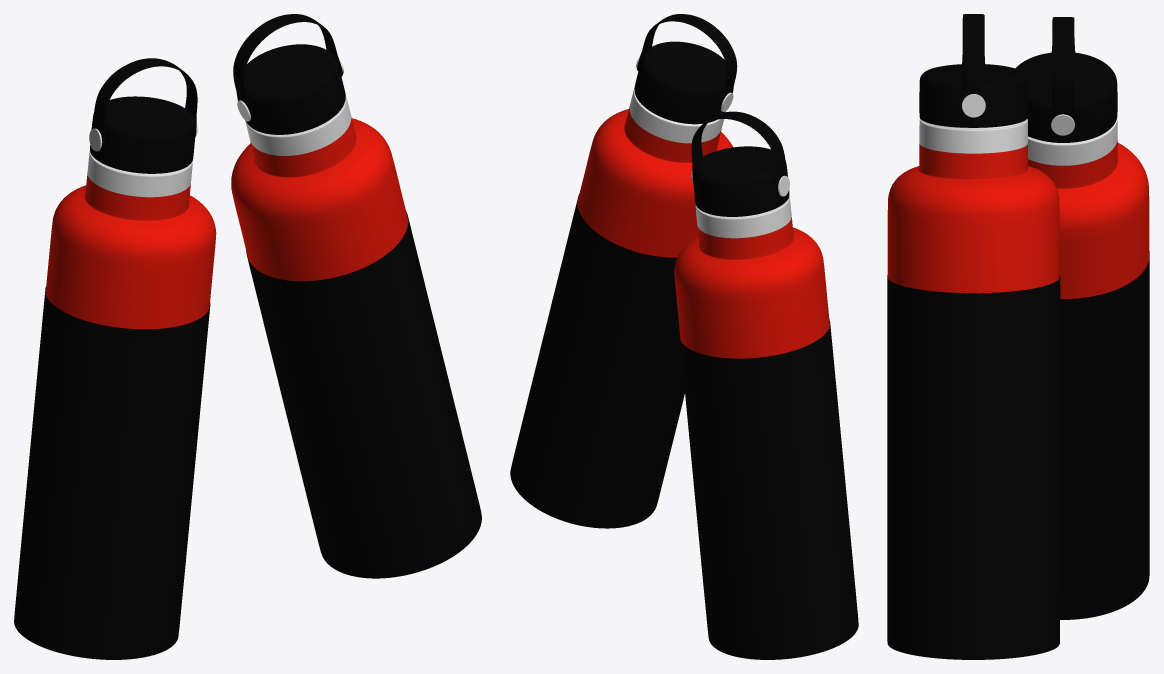
Rendered from Steel A-3.glb.
The picture shows the model from 3 angles, left to right: view 1: azimuth 30°, elevation 25°; view 2: azimuth 150°, elevation 25°; view 3: azimuth 270°, elevation 25°; orthographic projection. The views are drawn at different scales.
Visible parts, largest first — view 1: Circle.009, Circle.011, Circle.002, Circle; view 2: Circle.009, Circle.011, Circle, Circle.002; view 3: Circle.011, Circle.002, Circle.009, Circle, Circle.010, Circle.001.
Boxes of the visible parts, left/top/right/bottom form: Circle.009: left=14, top=287, right=210, bottom=659; Circle.011: left=246, top=211, right=481, bottom=578; Circle.002: left=231, top=14, right=408, bottom=281; Circle: left=45, top=58, right=216, bottom=329; Circle.009: left=679, top=319, right=858, bottom=659; Circle.011: left=510, top=194, right=684, bottom=528; Circle: left=674, top=111, right=829, bottom=358; Circle.002: left=577, top=14, right=737, bottom=257; Circle.011: left=887, top=275, right=1060, bottom=659; Circle.002: left=887, top=14, right=1059, bottom=293; Circle.009: left=1060, top=251, right=1149, bottom=619; Circle: left=1015, top=17, right=1149, bottom=298; Circle.010: left=962, top=94, right=985, bottom=117; Circle.001: left=1051, top=114, right=1074, bottom=135.
Size of the model in its own units: 5.61 by 8.15 by 3.04.
Materials: 4 (1 with a texture image).
